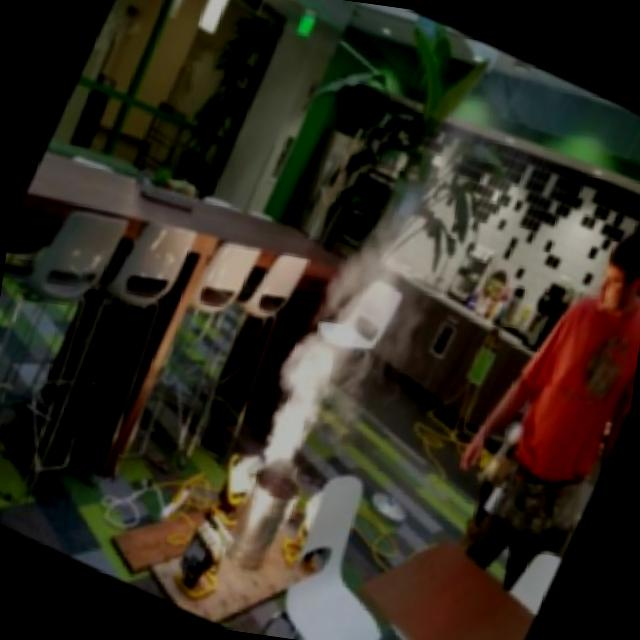smoke: (248, 316, 358, 479)
